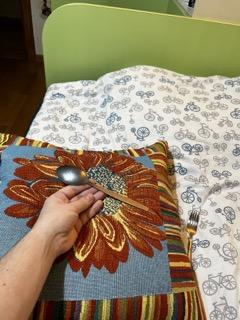spoon: (54, 162, 155, 213)
